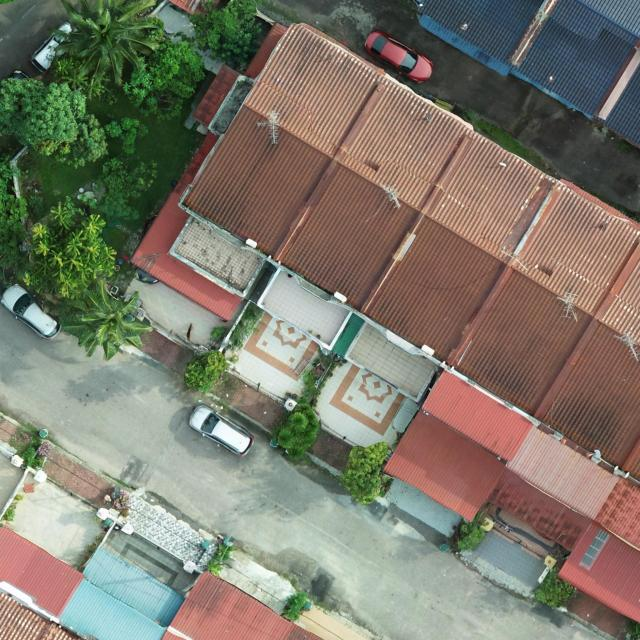Tree: (51, 0, 165, 86), (23, 201, 118, 300), (61, 277, 152, 361), (122, 39, 208, 122), (0, 76, 88, 146), (188, 0, 264, 71), (32, 113, 110, 168), (96, 156, 158, 220), (343, 441, 392, 506), (272, 402, 321, 460), (104, 117, 149, 154), (184, 349, 226, 388), (457, 511, 487, 552), (534, 580, 576, 608), (280, 592, 307, 620)
